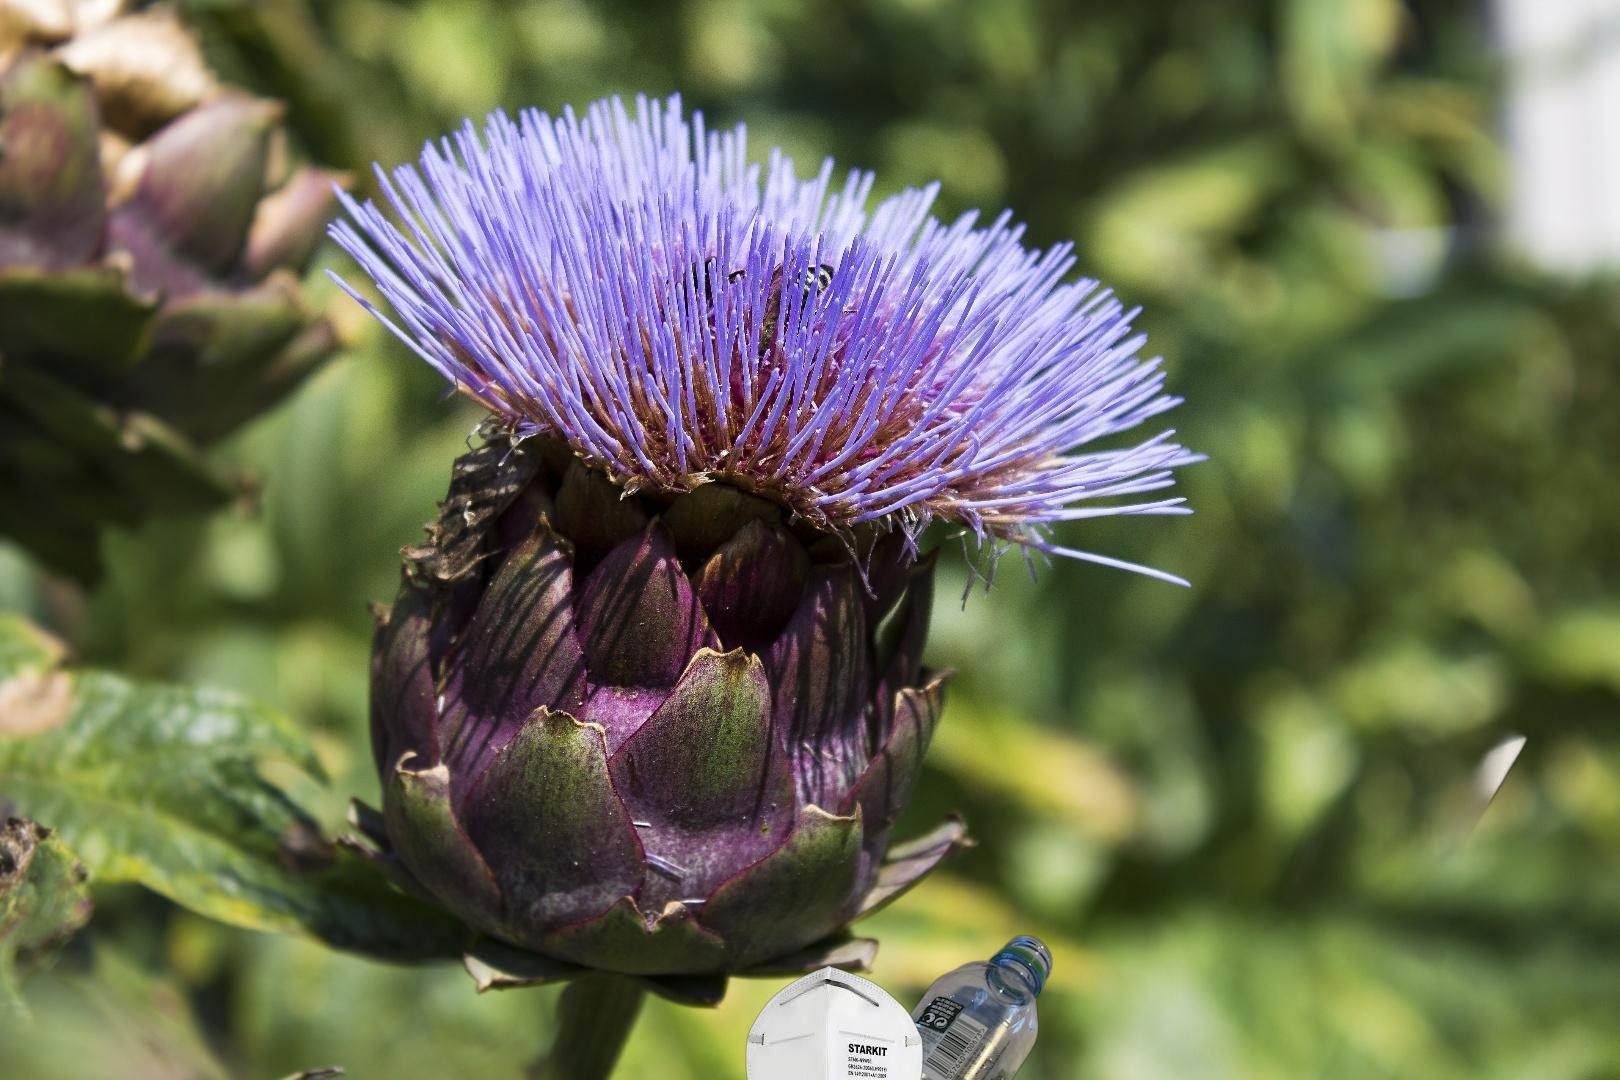plastic-bottles: (730, 931, 1053, 1080)
trash: (742, 963, 926, 1080)
trashbox-cardboard: (1162, 569, 1587, 1080)
